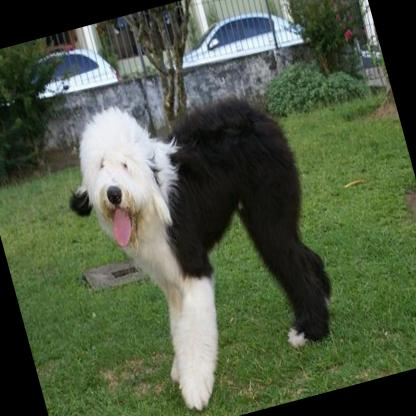Old_English_sheepdog: (67, 63, 353, 416)
